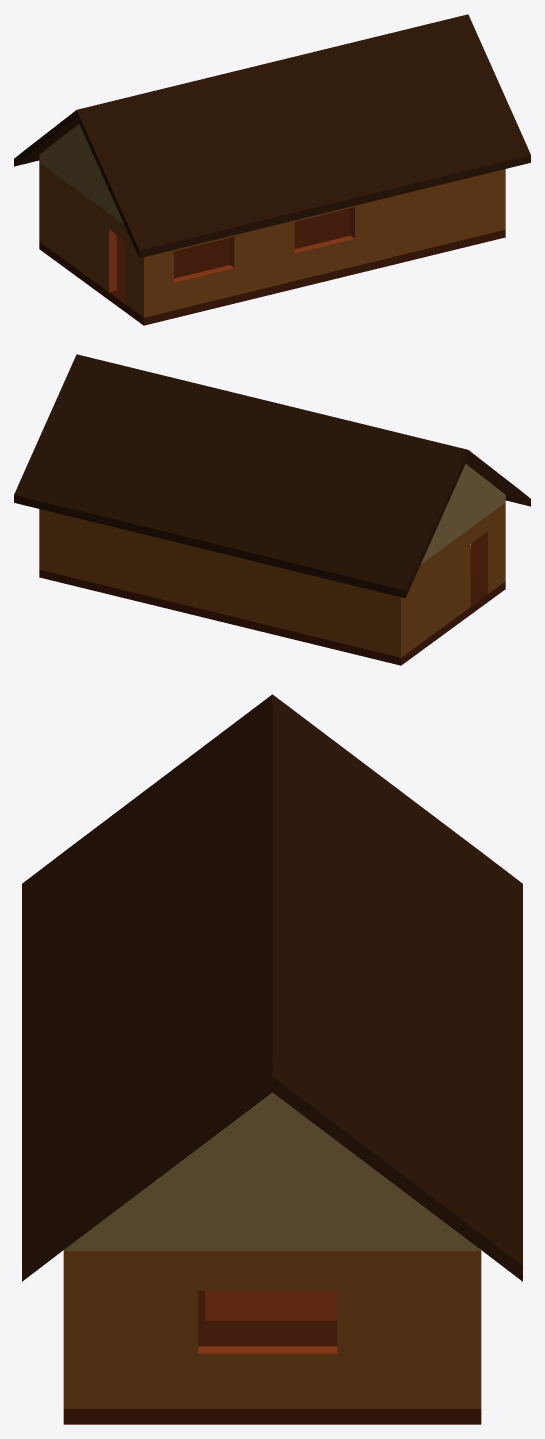
The model's file is Cabin_1.glb.
3 views of the same model, one above another, from view 1: azimuth 30°, elevation 25°; view 2: azimuth 150°, elevation 25°; view 3: azimuth 270°, elevation 25° (orthographic). The views are drawn at different scales.
Visible parts, largest first — view 1: Cabin_1; view 2: Cabin_1; view 3: Cabin_1.
Part boxes in pixels (x1=…): Cabin_1: x1=14, y1=14, x2=530, y2=325; Cabin_1: x1=14, y1=354, x2=530, y2=665; Cabin_1: x1=22, y1=694, x2=522, y2=1424.
Size of the model in its own units: 25.99 by 11.5 by 14.4.
